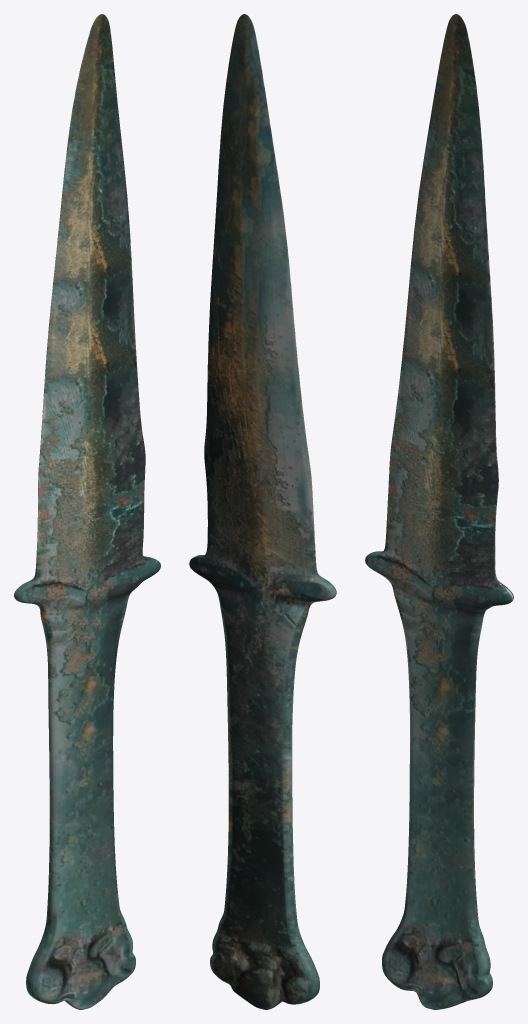
Rendered from knife.fbx.
3 views of the same model, side by side, from view 1: azimuth 30°, elevation 25°; view 2: azimuth 150°, elevation 25°; view 3: azimuth 330°, elevation 25° (orthographic).
Parts seen in each view (by area): view 1: Cube; view 2: Cube; view 3: Cube.
Part boxes in pixels (x1,y1,x2,y2): Cube: [14, 14, 160, 1009]; Cube: [189, 14, 336, 1009]; Cube: [365, 14, 513, 1009].
Size of the model in its own units: 69.47 by 451 by 10.25.
